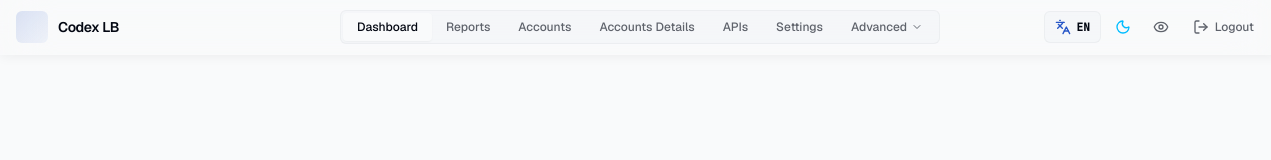
it: AppHeader › reveals Automations after opening the Advanced menu
Click the button "Advanced": click(887, 27) [837, 13, 937, 41]
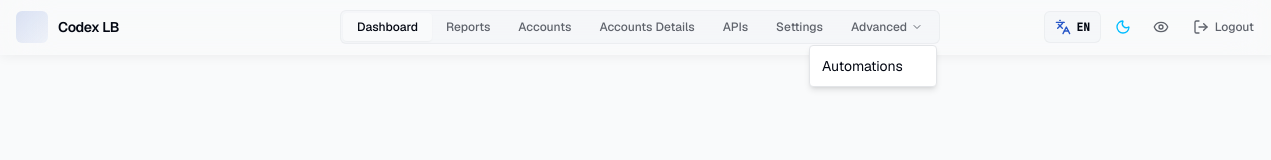
Now the menu item "Automations" is shown, box [822, 57, 903, 75]
